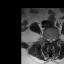CCS_severe_stenosis: (50, 37, 51, 44)
LFS_normal: (53, 36, 55, 42)
LLS_normal: (51, 37, 53, 43)
RFS_normal: (46, 36, 48, 42)
RLS_normal: (48, 37, 50, 43)
